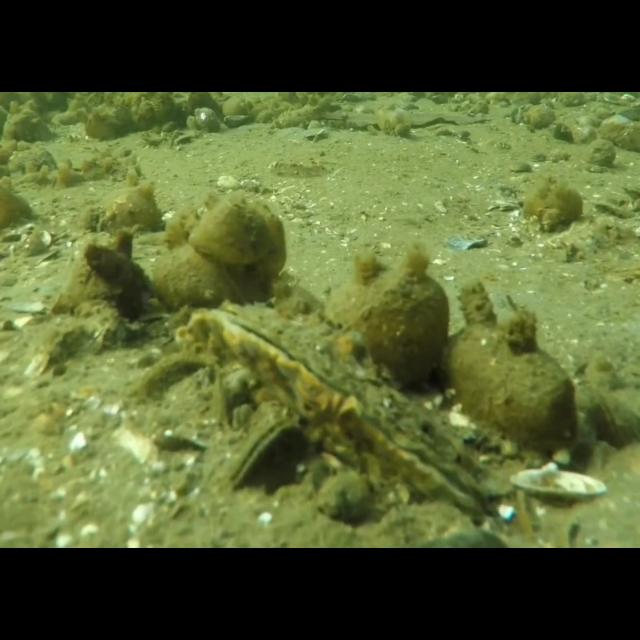Oyster-Closed: (572, 386, 640, 454)
Oyster-Open: (191, 302, 494, 518), (221, 414, 311, 501), (508, 463, 606, 503)
